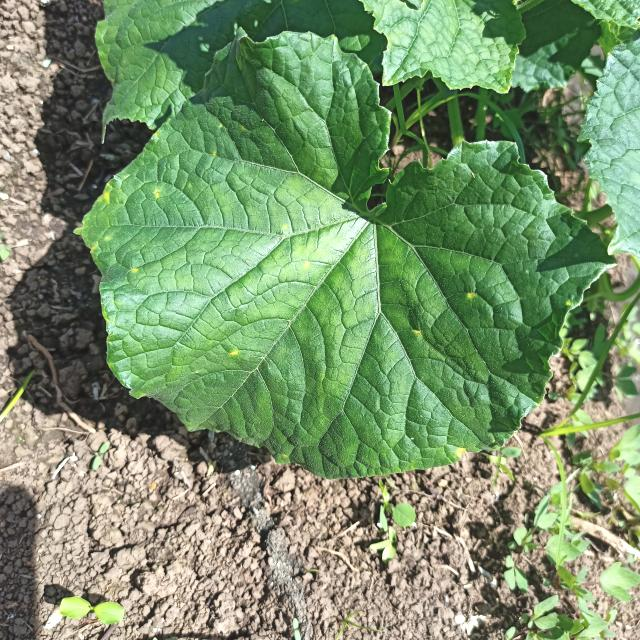disease_cucumber: (98, 182, 113, 203), (411, 328, 423, 336), (466, 292, 476, 300), (458, 446, 463, 457), (229, 350, 238, 356), (155, 189, 161, 198), (566, 300, 572, 308), (282, 224, 288, 232), (303, 262, 309, 268), (132, 268, 137, 274), (152, 133, 158, 137), (212, 152, 216, 156)
